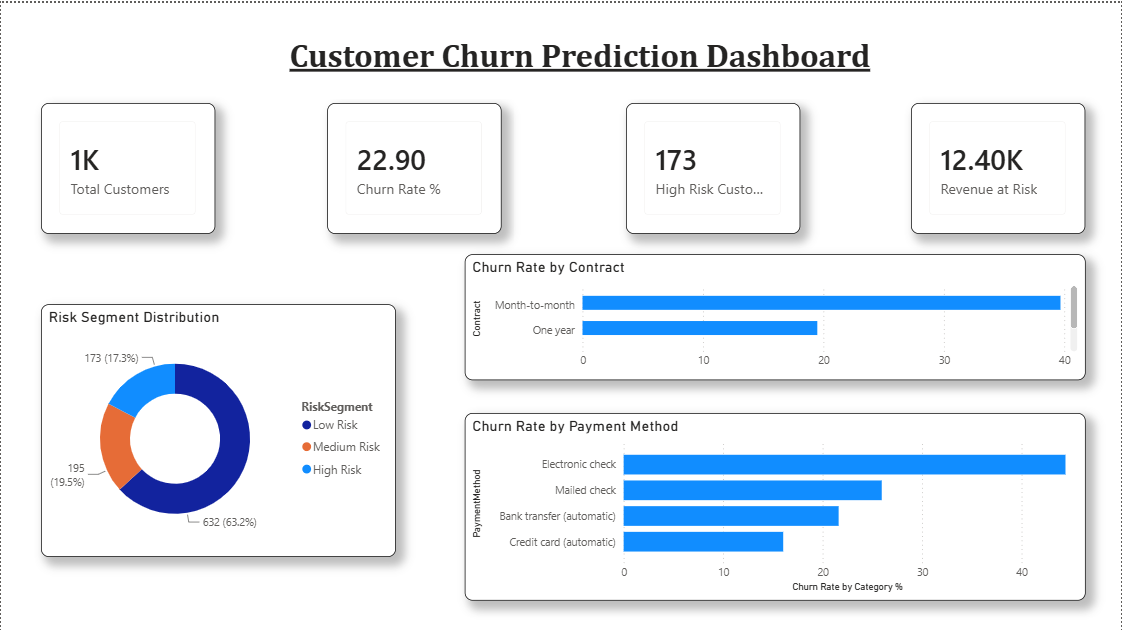

Layout of this report page (visuals, bound fields, positions):
{"tool":"powerbi","page":{"name":"Executive Summary","canvas":[1280,720],"ordinal":0},"visuals":[{"type":"cardVisual","fields":{"Data":["churn_scored_for_powerbi.Total Customers"]},"box":[45.3,114.2,199,149.6],"z":0},{"type":"cardVisual","fields":{"Data":["churn_scored_for_powerbi.Revenue at Risk"]},"box":[1040.1,114.2,199,149.6],"z":1000},{"type":"cardVisual","fields":{"Data":["churn_scored_for_powerbi.High Risk Customers"]},"box":[714.9,114.2,199,149.6],"z":2000},{"type":"cardVisual","fields":{"Data":["churn_scored_for_powerbi.Churn Rate %"]},"box":[373.2,114.2,199,149.6],"z":3000},{"type":"donutChart","title":"Risk Segment Distribution","fields":{"Category":["churn_scored_for_powerbi.RiskSegment"],"Y":["CountNonNull(churn_scored_for_powerbi.customerID)"]},"box":[45.7,344.3,405.7,288.6],"z":4000},{"type":"clusteredBarChart","title":"Churn Rate by Contract","fields":{"Y":["churn_scored_for_powerbi.Churn Rate by Category %"],"Category":["churn_scored_for_powerbi.Contract"]},"box":[529.7,286.8,709.4,144.1],"z":5000},{"type":"clusteredBarChart","title":"Churn Rate by Payment Method","fields":{"Y":["churn_scored_for_powerbi.Churn Rate by Category %"],"Category":["churn_scored_for_powerbi.PaymentMethod"]},"box":[529.7,467.9,709.4,214.1],"z":6000},{"type":"textbox","box":[300.5,32.9,723.2,76.8],"z":7000}]}

Visuals, with their boxes in screenshot pixels (x1, y1, x2, y2), scaled from the page's 1280x720 canvas onto the 1122x630 screenshot:
cardVisual - churn_scored_for_powerbi.Total Customers: 40 100 214 231
cardVisual - churn_scored_for_powerbi.Revenue at Risk: 912 100 1086 231
cardVisual - churn_scored_for_powerbi.High Risk Customers: 627 100 801 231
cardVisual - churn_scored_for_powerbi.Churn Rate %: 327 100 502 231
"Risk Segment Distribution" donutChart: 40 301 396 554
"Churn Rate by Contract" clusteredBarChart: 464 251 1086 377
"Churn Rate by Payment Method" clusteredBarChart: 464 409 1086 597
textbox: 263 29 897 96
